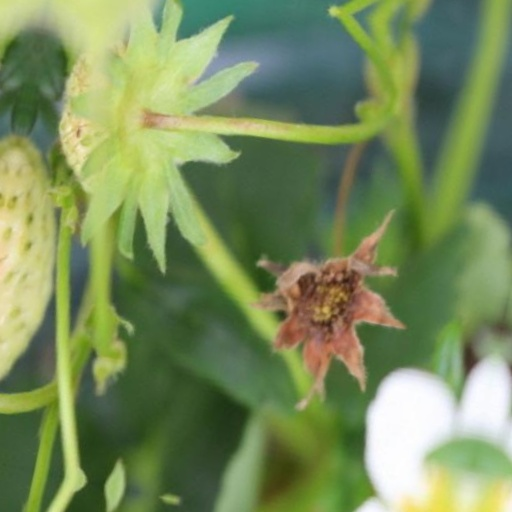Gray Mold: (92, 113, 256, 332)
